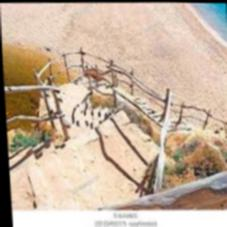Animal: (17, 135, 127, 205)
